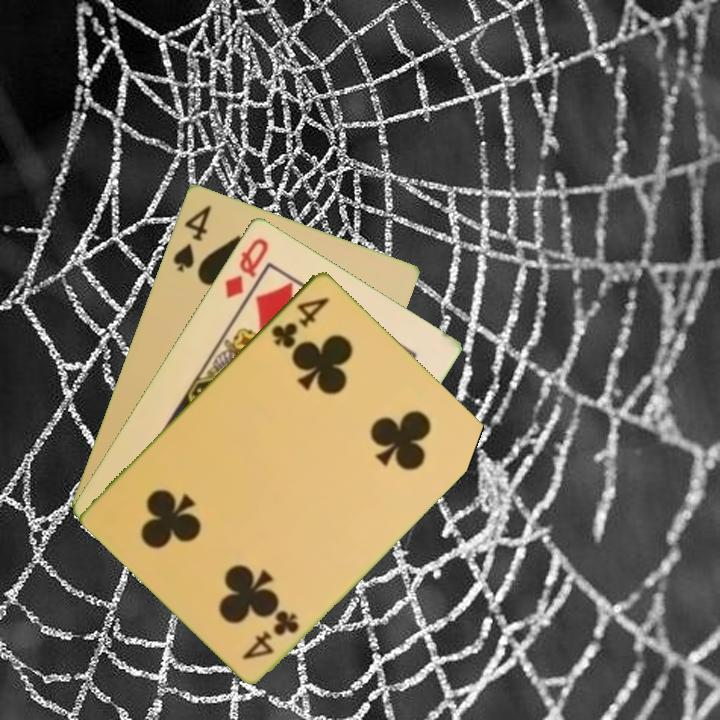4c: (267, 292, 333, 351), (238, 606, 303, 663)
4s: (169, 201, 215, 275)
Qd: (221, 233, 272, 301)
